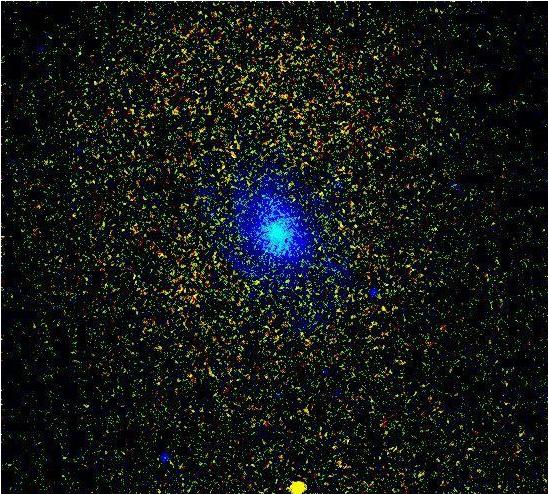star: (283, 470, 313, 494)
